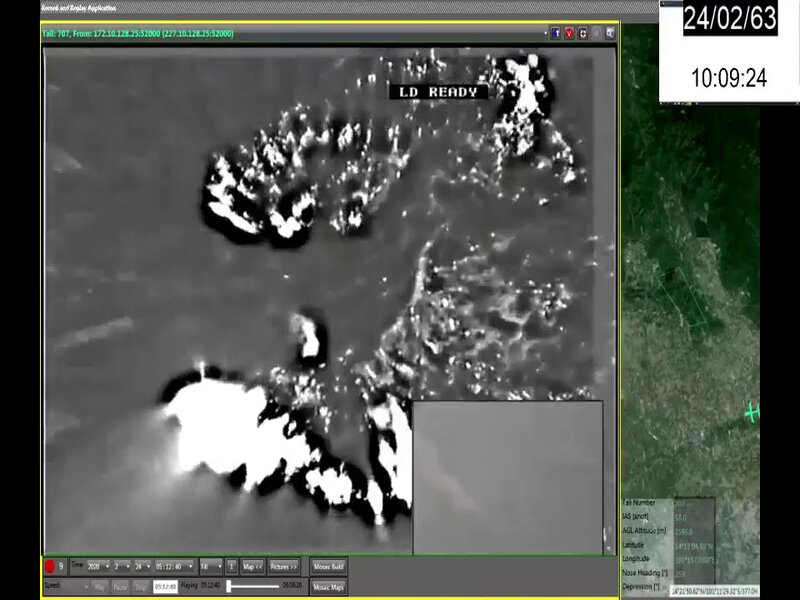Fire: (154, 100, 411, 530)
